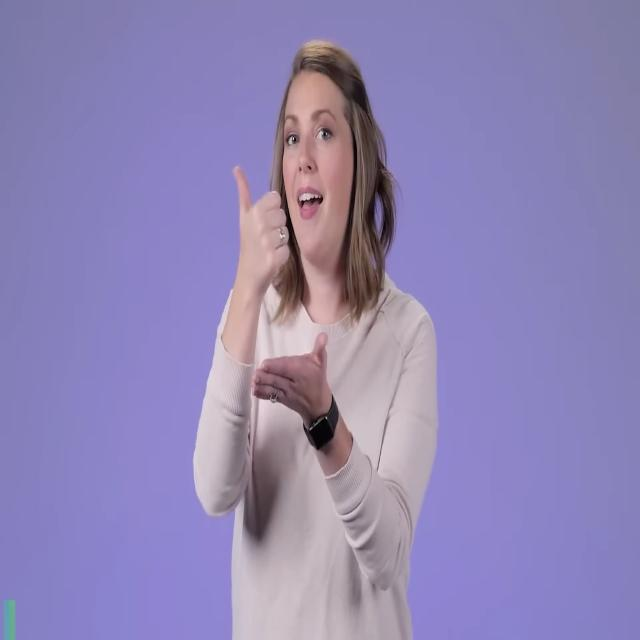help: (222, 159, 336, 424)
